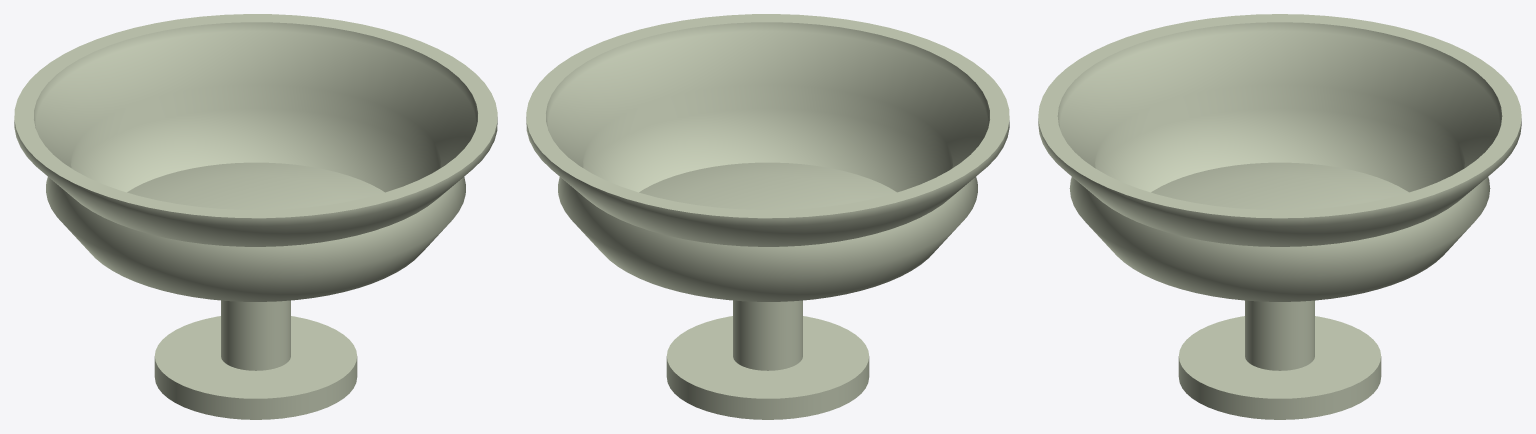
File: footed-fruit-bowl-bam.glb
The picture shows the model from 3 angles, left to right: view 1: azimuth 30°, elevation 25°; view 2: azimuth 150°, elevation 25°; view 3: azimuth 270°, elevation 25°; orthographic projection.
Visible parts, largest first — view 1: footed-fruit-bowl; view 2: footed-fruit-bowl; view 3: footed-fruit-bowl.
Boxes of the visible parts, x1=… form: footed-fruit-bowl: x1=14, y1=14, x2=497, y2=419; footed-fruit-bowl: x1=526, y1=14, x2=1009, y2=419; footed-fruit-bowl: x1=1038, y1=14, x2=1521, y2=419.
Bounding box in the file's own units: 0.621 × 0.37 × 0.621.
